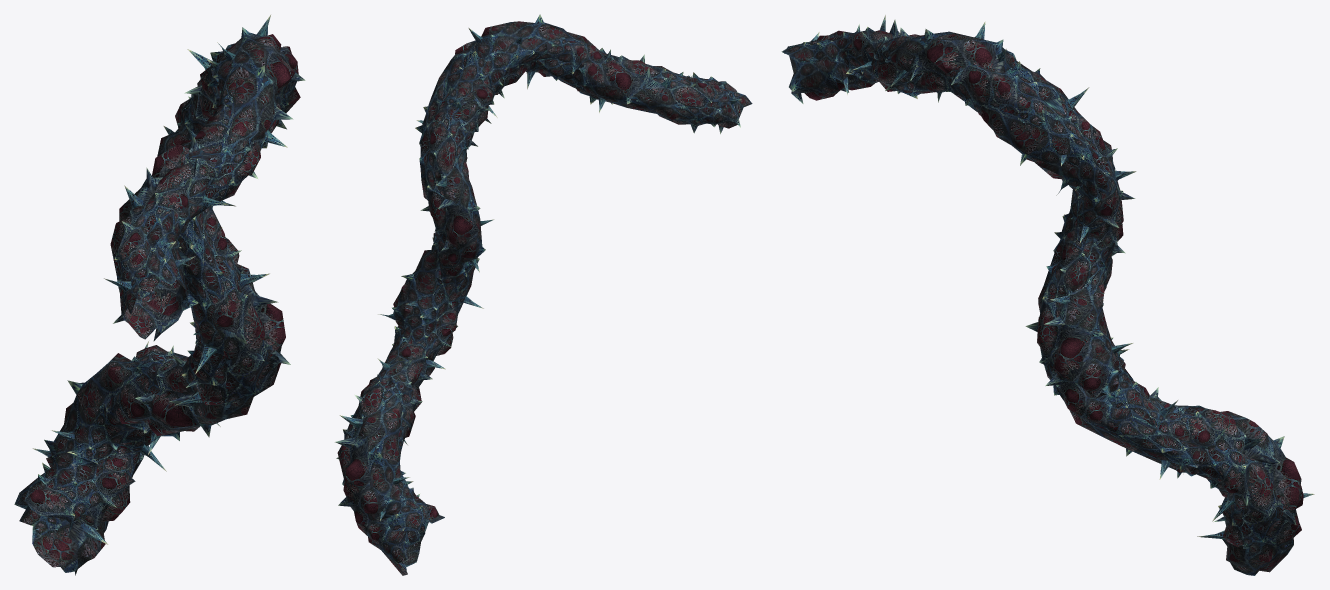
Rendered from 02_03_Makaijyu_09.fbx.
3 renders of one model, left to right at view 1: azimuth 30°, elevation 25°; view 2: azimuth 150°, elevation 25°; view 3: azimuth 270°, elevation 25°, orthographic. The views are drawn at different scales.
Visible parts, largest first — view 1: LODGroup_3_MainMesh_1_SubMesh_1, LODGroup_3_MainMesh_1_SubMesh_2; view 2: LODGroup_3_MainMesh_1_SubMesh_1, LODGroup_3_MainMesh_1_SubMesh_2; view 3: LODGroup_3_MainMesh_1_SubMesh_1, LODGroup_3_MainMesh_1_SubMesh_2.
Boxes of the visible parts, box(x1,y1,x2,y2) form: LODGroup_3_MainMesh_1_SubMesh_1: box(19, 15, 305, 575); LODGroup_3_MainMesh_1_SubMesh_2: box(14, 27, 286, 552); LODGroup_3_MainMesh_1_SubMesh_1: box(335, 22, 741, 575); LODGroup_3_MainMesh_1_SubMesh_2: box(343, 14, 752, 545); LODGroup_3_MainMesh_1_SubMesh_1: box(791, 15, 1314, 575); LODGroup_3_MainMesh_1_SubMesh_2: box(781, 24, 1285, 545).
Size of the model in its own units: 814 by 1463 by 1284.
